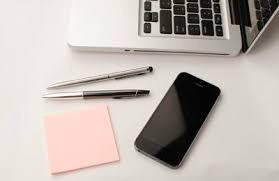mobil: (132, 70, 221, 170)
